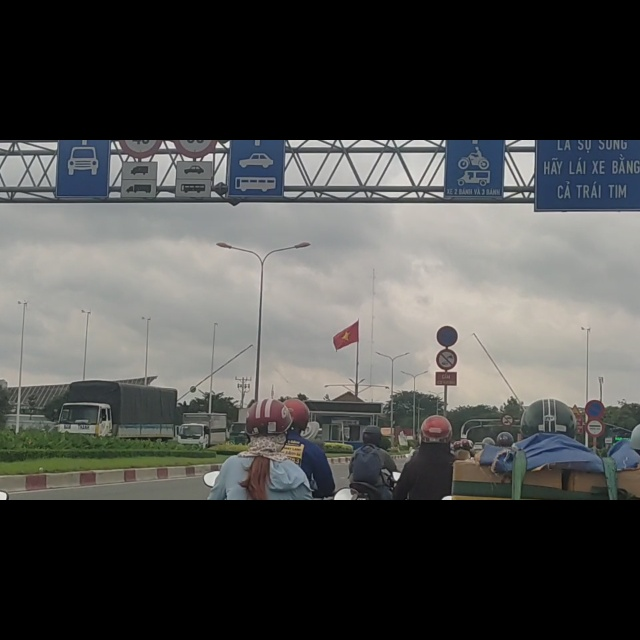bien_nguy_hiem: (436, 329, 459, 367), (436, 371, 458, 408), (585, 462, 606, 494), (587, 494, 605, 527), (500, 487, 513, 508), (571, 469, 582, 493)
